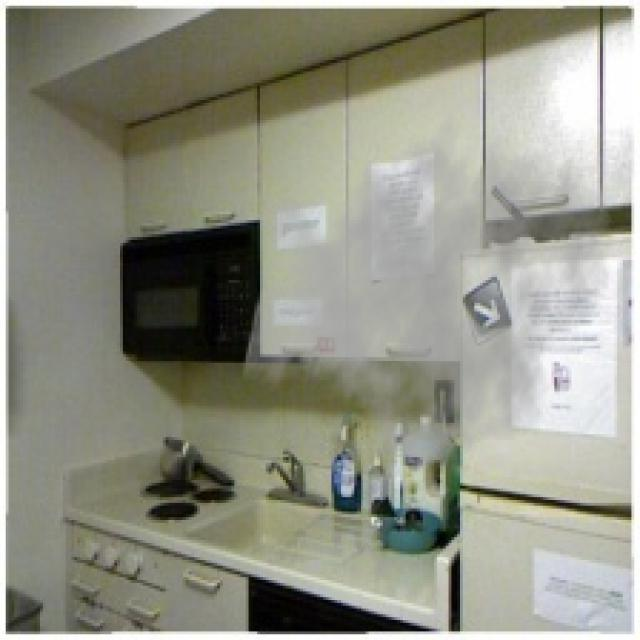smoke: (240, 97, 617, 483)
